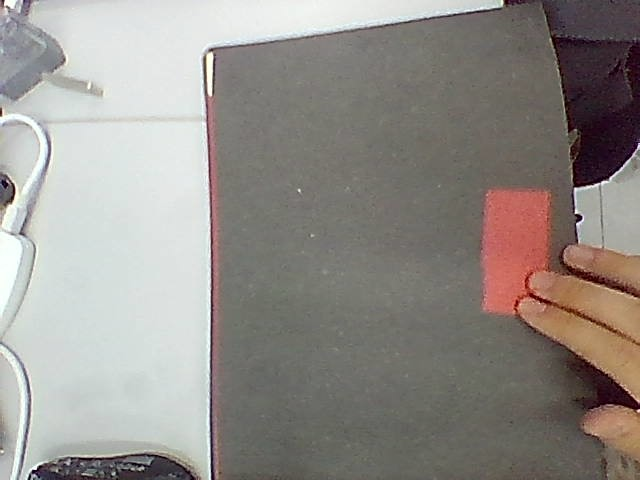card: (481, 189, 550, 314)
